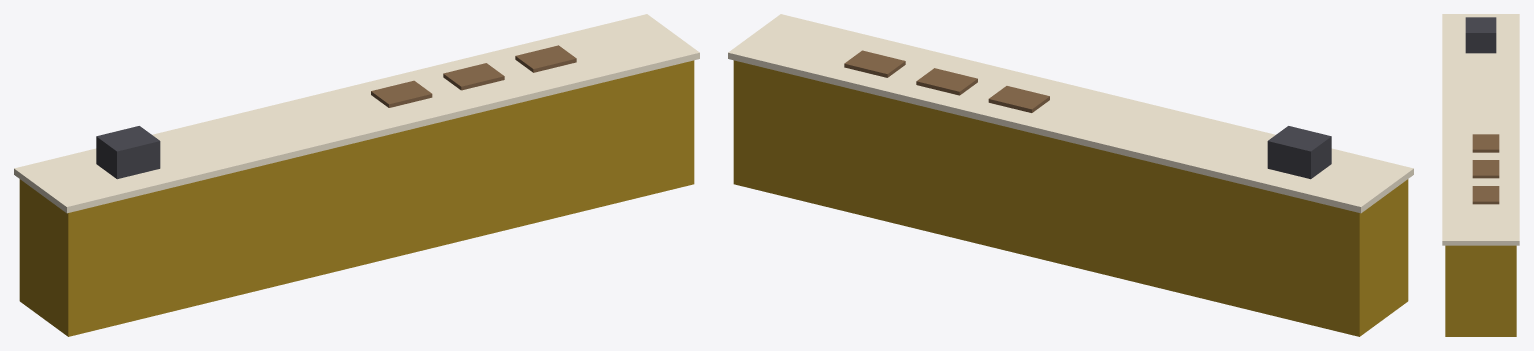
Rendered from food_cluck.glb.
3 views of the same model, side by side, from view 1: azimuth 30°, elevation 25°; view 2: azimuth 150°, elevation 25°; view 3: azimuth 270°, elevation 25° (orthographic). The views are drawn at different scales.
Visible parts, largest first — view 1: Box1, Box2, Box3, Box4, Box5, Box6; view 2: Box1, Box2, Box3, Box4, Box5, Box6; view 3: Box2, Box1, Box3, Box6, Box4, Box5.
Boxes of the visible parts, x1,y1,x2,y2 form: Box1: [19, 60, 694, 336]; Box2: [14, 14, 699, 213]; Box3: [96, 126, 160, 179]; Box4: [515, 45, 576, 72]; Box5: [443, 63, 504, 90]; Box6: [371, 80, 432, 107]; Box1: [733, 60, 1408, 336]; Box2: [728, 14, 1413, 213]; Box3: [1267, 126, 1331, 179]; Box4: [844, 50, 905, 77]; Box5: [916, 68, 977, 95]; Box6: [988, 86, 1049, 112]; Box2: [1442, 14, 1519, 245]; Box1: [1445, 245, 1516, 336]; Box3: [1465, 17, 1496, 53]; Box6: [1472, 134, 1499, 152]; Box4: [1472, 186, 1499, 204]; Box5: [1472, 160, 1499, 178].
Bounding box in the file's own units: 5.26 × 1.27 × 0.76.
